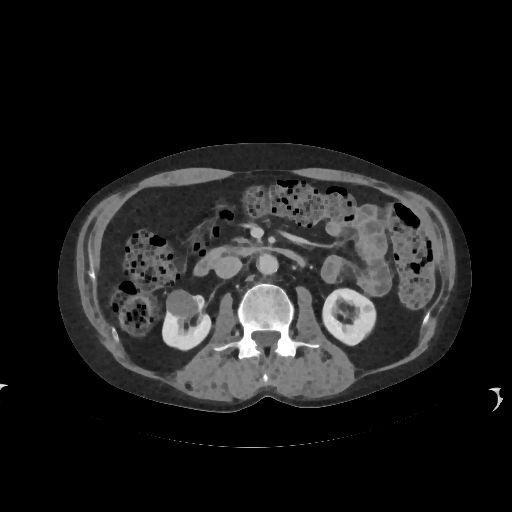Lesion: (163, 287, 202, 321)
